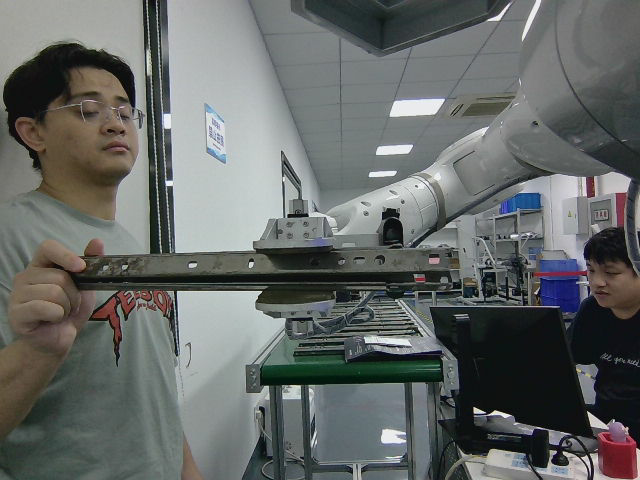right: (82, 246, 462, 299)
